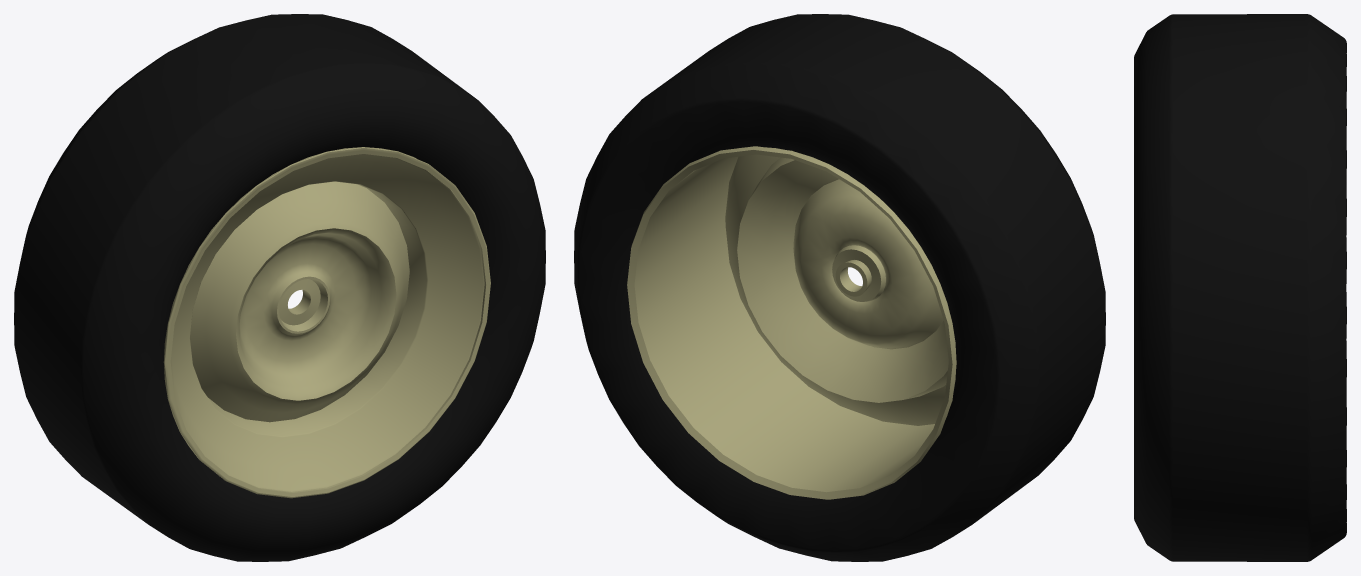
Rendered from fiat500_wheel.dae.
The picture shows the model from 3 angles, left to right: view 1: azimuth 30°, elevation 25°; view 2: azimuth 150°, elevation 25°; view 3: azimuth 270°, elevation 25°; orthographic projection. The views are drawn at different scales.
Visible parts, largest first — view 1: Hummer_004; view 2: Hummer_004; view 3: Hummer_004.
Boxes of the visible parts, x1,y1,x2,y2 form: Hummer_004: (14, 14, 545, 561); Hummer_004: (574, 14, 1105, 561); Hummer_004: (1134, 14, 1346, 561).
Bounding box in the file's own units: 0.9804 × 0.3809 × 0.9804.
